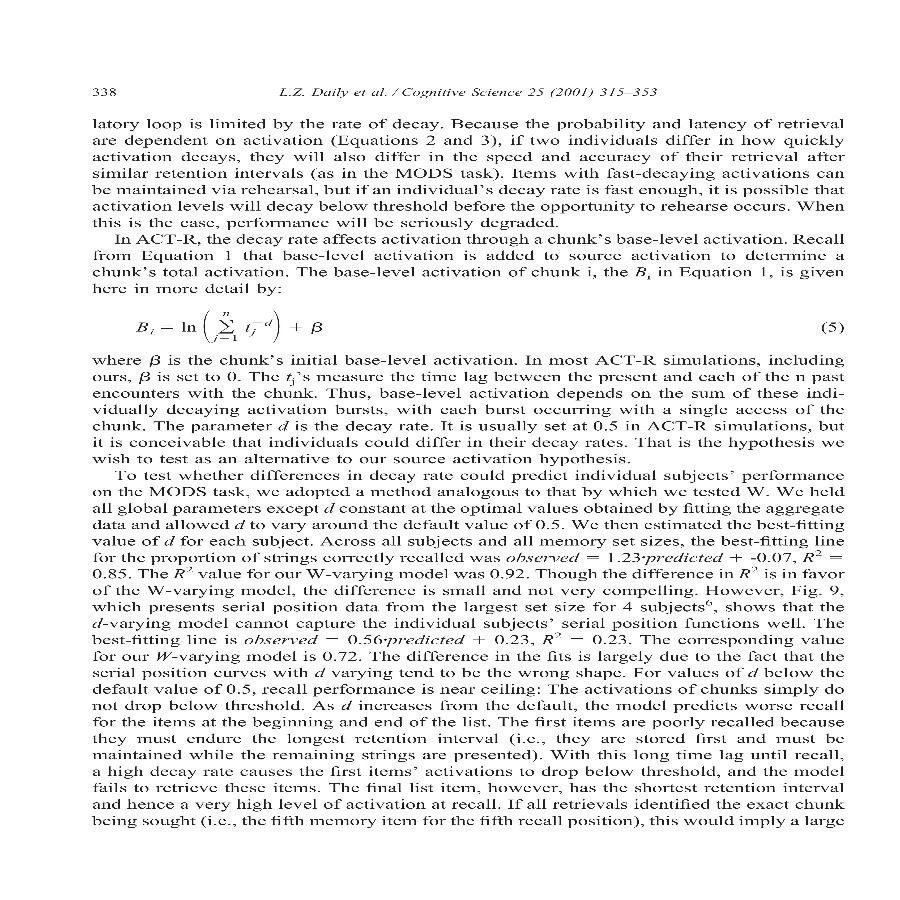eq: (134, 302, 327, 347)
